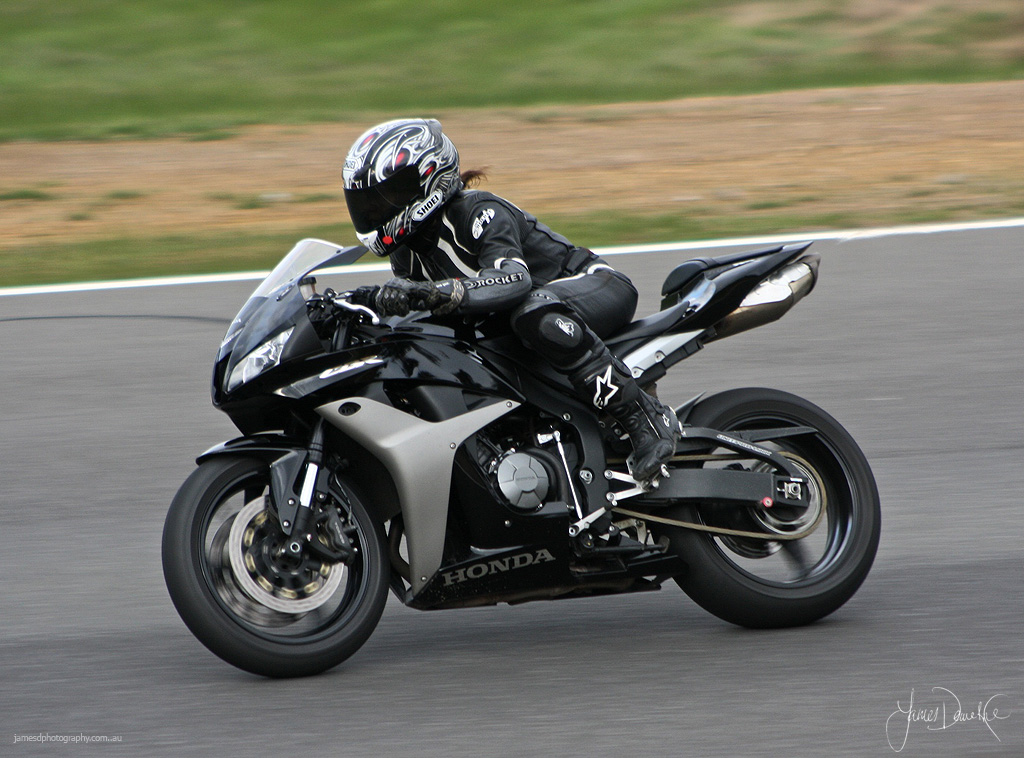helmet: (331, 114, 467, 242)
